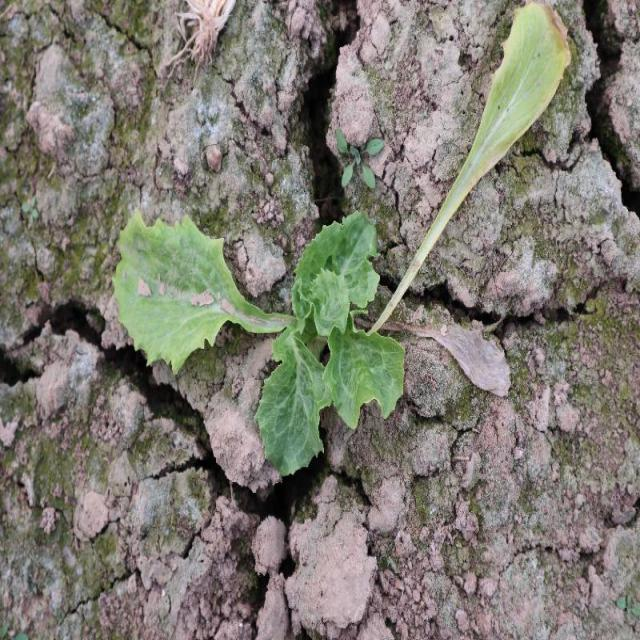crop: (111, 208, 405, 479)
